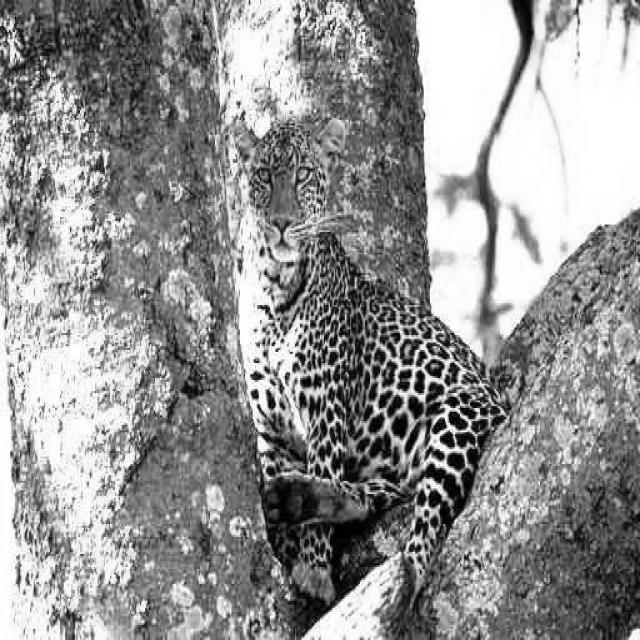Leopard: (230, 110, 511, 634)
